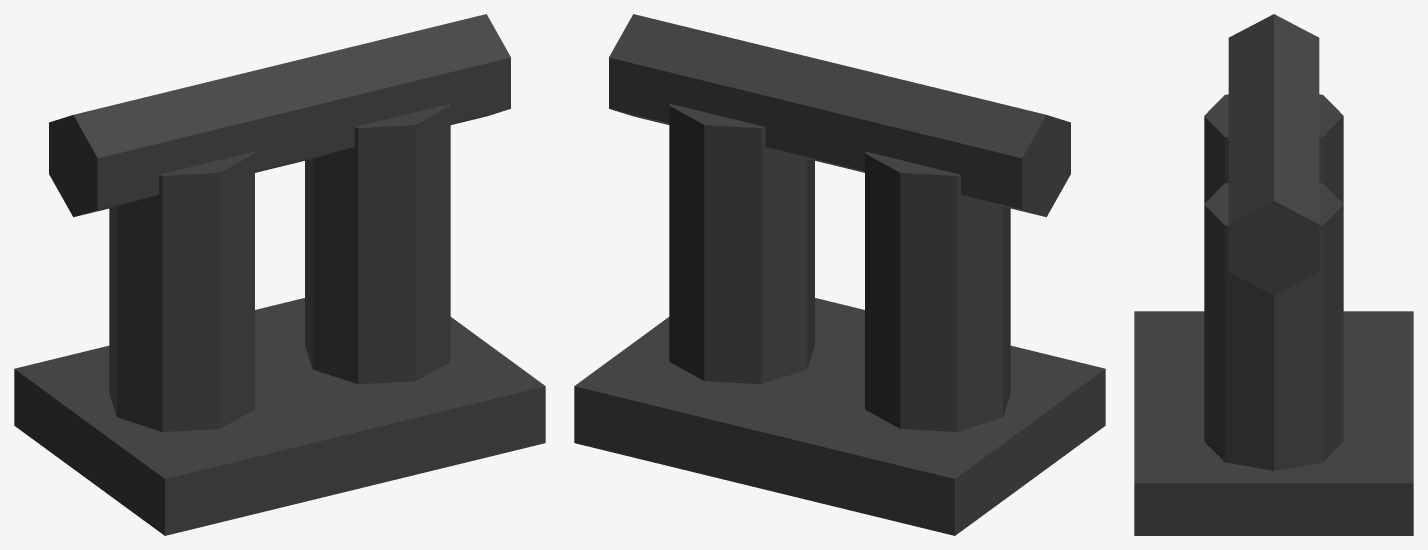
The picture shows the model from 3 angles, left to right: view 1: azimuth 30°, elevation 25°; view 2: azimuth 150°, elevation 25°; view 3: azimuth 270°, elevation 25°; orthographic projection. The views are drawn at different scales.
Parts seen in each view (by area): view 1: Foot, Crossbar, Post.001, Post; view 2: Foot, Crossbar, Post.001, Post; view 3: Foot, Post.001, Crossbar, Post.
Part boxes in pixels (left/top/right/bottom): Foot: left=14, top=298, right=545, bottom=535; Crossbar: left=49, top=14, right=510, bottom=217; Post.001: left=305, top=104, right=450, bottom=384; Post: left=109, top=151, right=254, bottom=431; Foot: left=574, top=298, right=1105, bottom=535; Crossbar: left=609, top=14, right=1070, bottom=217; Post.001: left=669, top=104, right=814, bottom=384; Post: left=865, top=151, right=1010, bottom=431; Foot: left=1134, top=311, right=1413, bottom=535; Post.001: left=1204, top=183, right=1343, bottom=470; Crossbar: left=1228, top=14, right=1319, bottom=295; Post: left=1204, top=94, right=1343, bottom=203.
Size of the model in its own units: 38 by 32.5 by 24.
